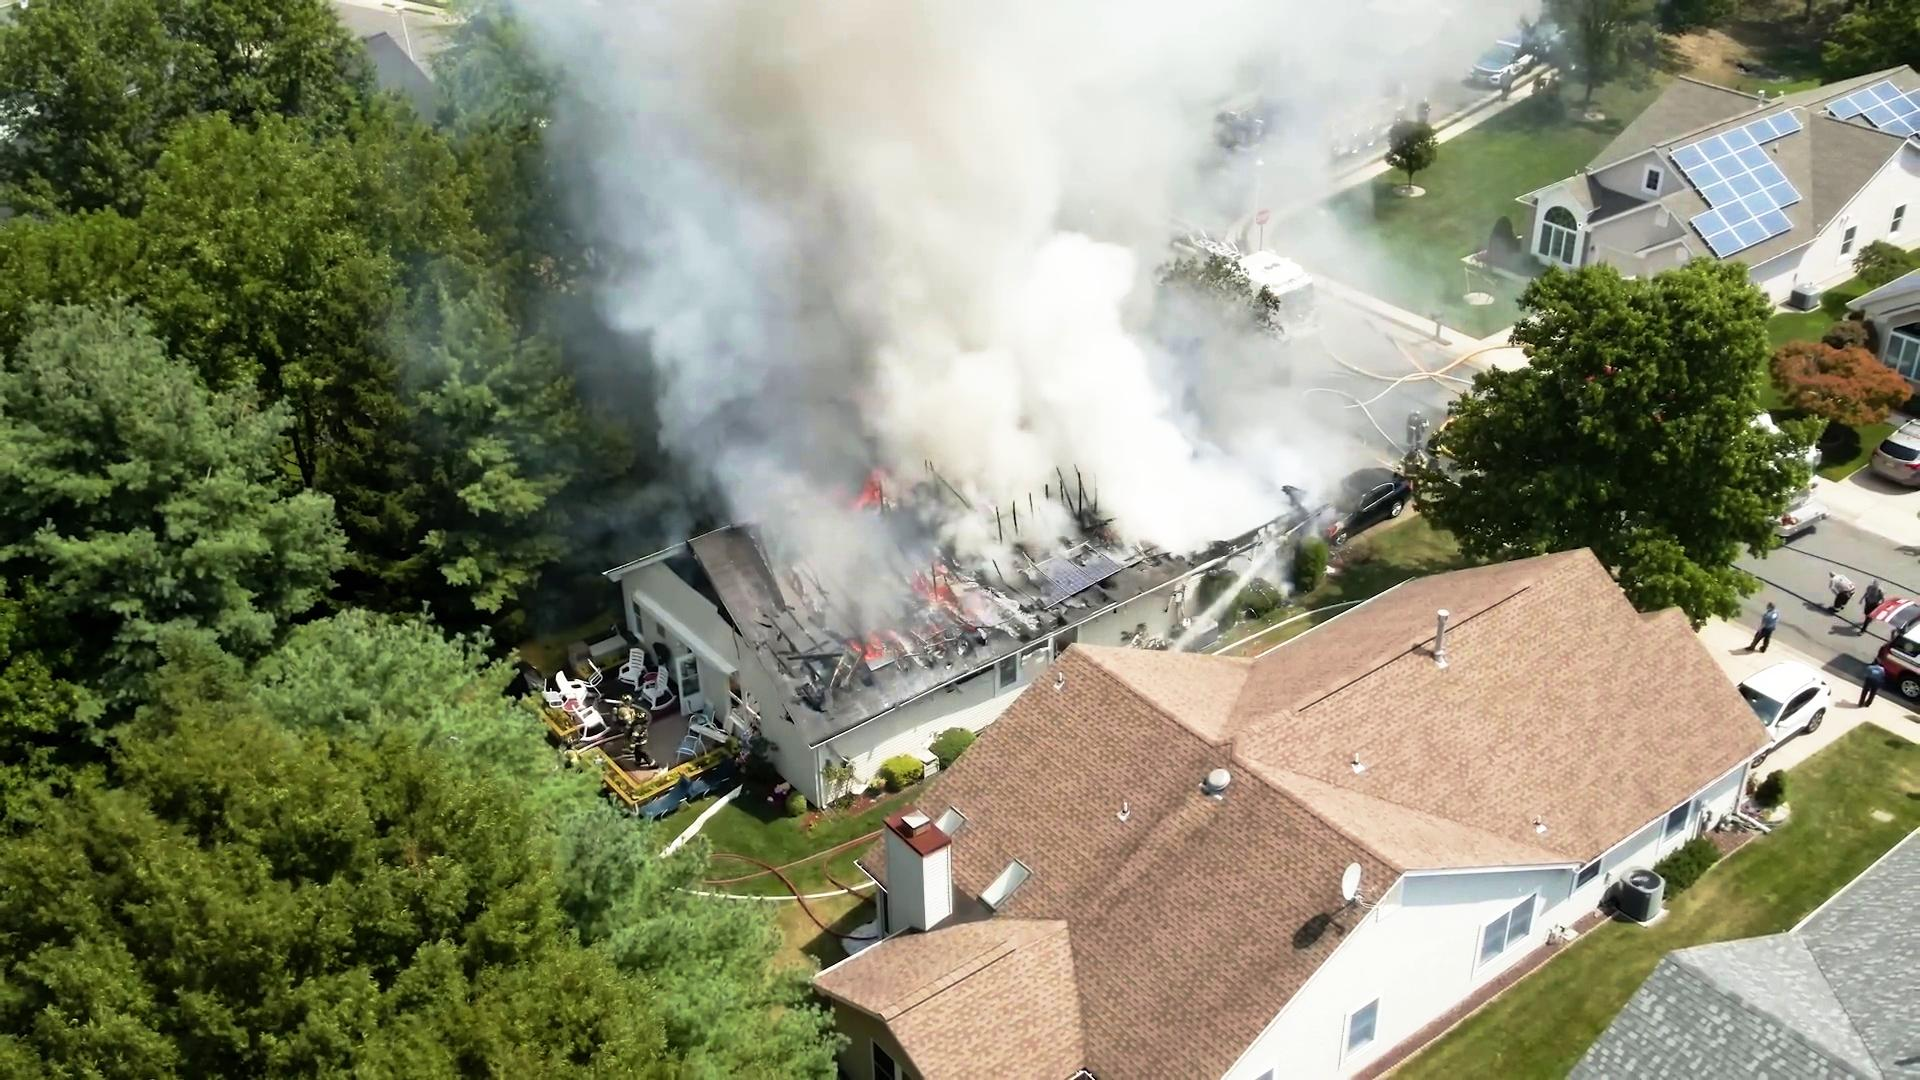smoke: (605, 0, 1147, 302), (765, 161, 1120, 498), (679, 302, 853, 517)
